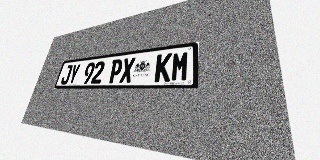2: (91, 61, 106, 84)
9: (81, 62, 96, 84)
J: (60, 65, 73, 84)
K: (154, 53, 172, 82)
M: (170, 51, 190, 82)
P: (108, 59, 124, 83)
X: (119, 57, 136, 83)
Y: (67, 64, 81, 84)
